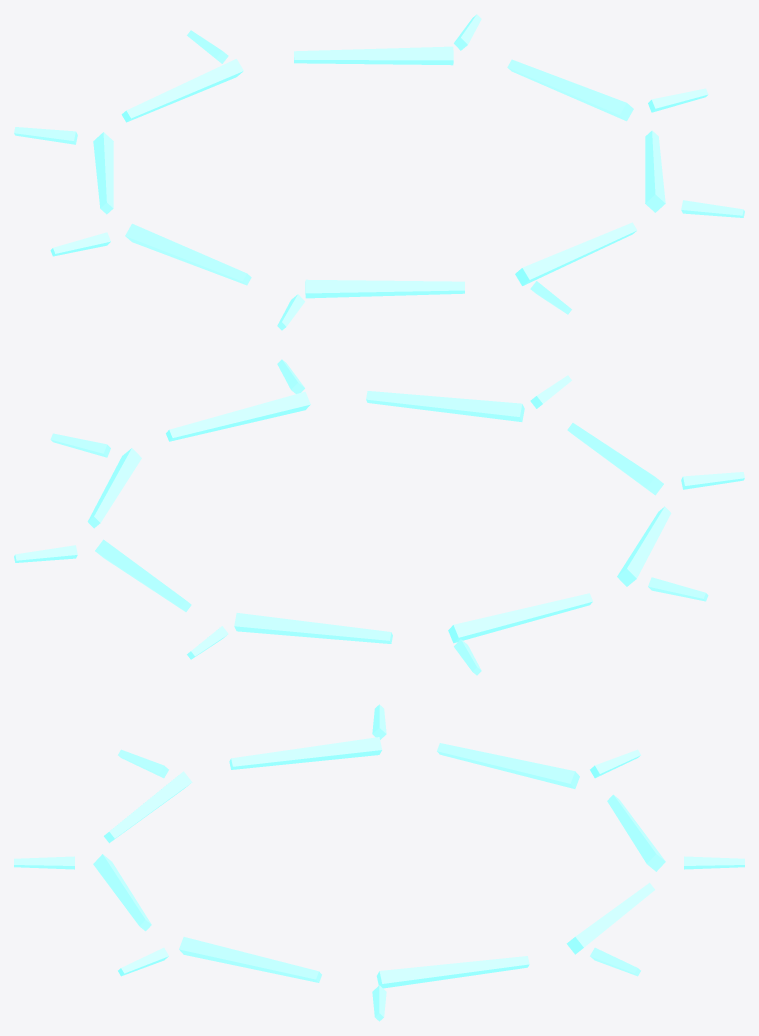
The model's file is frost_ring.glb.
3 views of the same model, one above another, from view 1: azimuth 30°, elevation 25°; view 2: azimuth 150°, elevation 25°; view 3: azimuth 270°, elevation 25° (orthographic). The views are drawn at different scales.
Visible parts, largest first — view 1: frost_ring; view 2: frost_ring; view 3: frost_ring.
Boxes of the visible parts, <box> form: frost_ring: <box>14,14,744,330</box>; frost_ring: <box>14,359,744,675</box>; frost_ring: <box>14,704,744,1021</box>.
Size of the model in its own units: 1.32 by 0.036 by 1.32.
